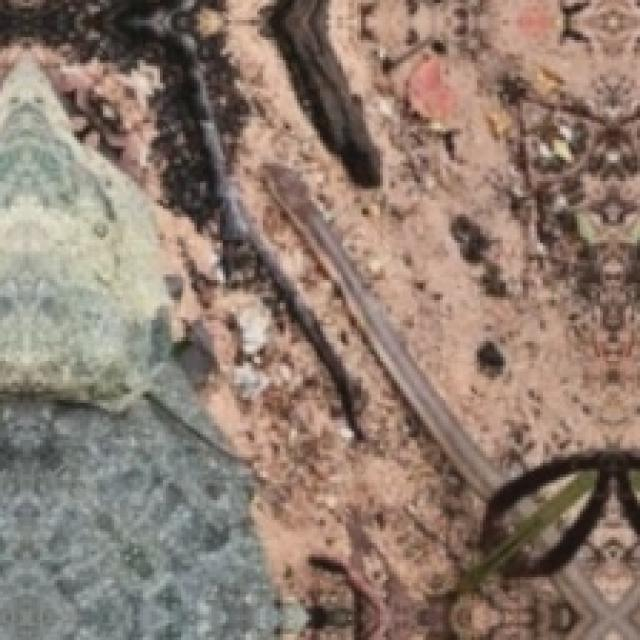king cobra: (0, 0, 637, 637), (263, 163, 637, 574)
